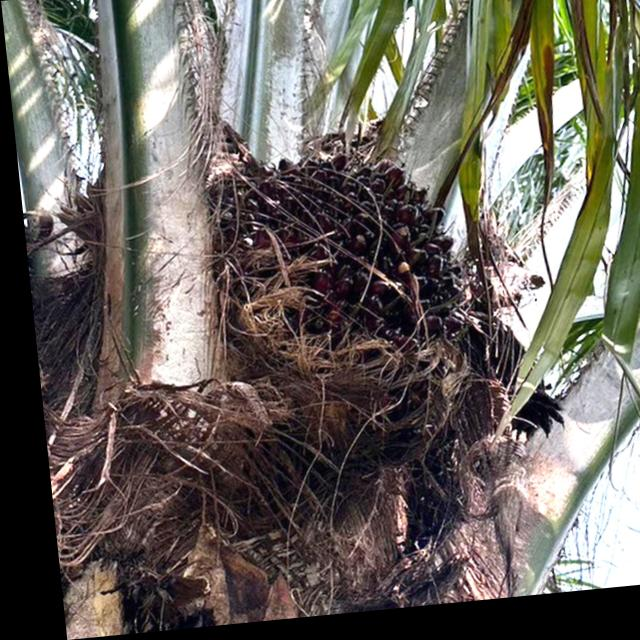ripe: (219, 125, 472, 377)
